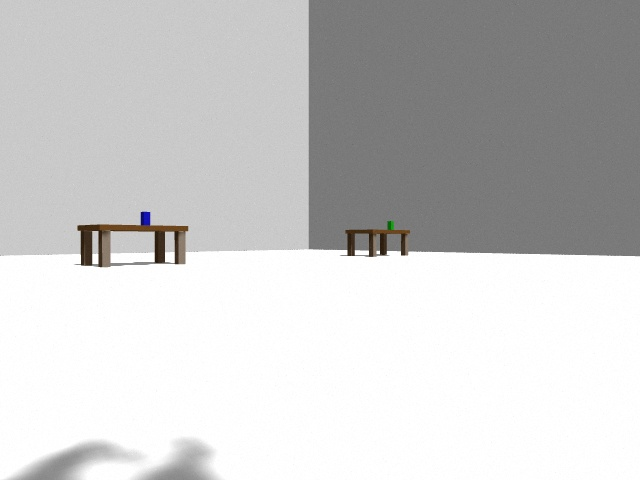blue_cube: (141, 212, 150, 225)
green_cube: (387, 221, 394, 230)
